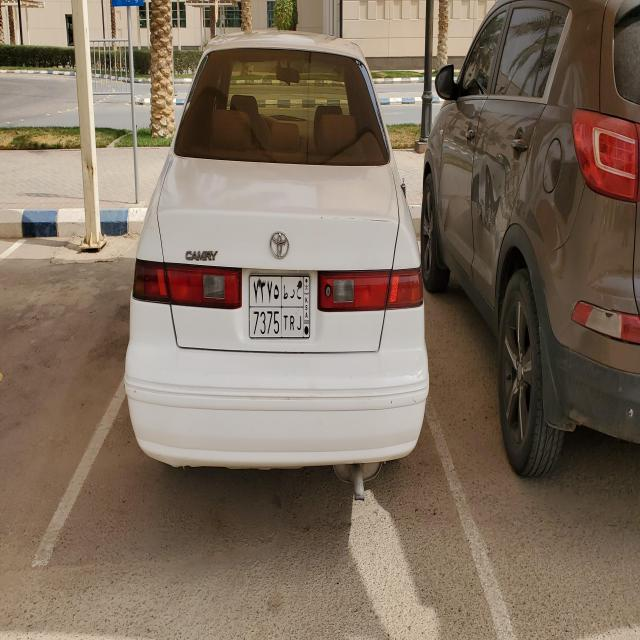license_plate: (249, 274, 312, 339)
